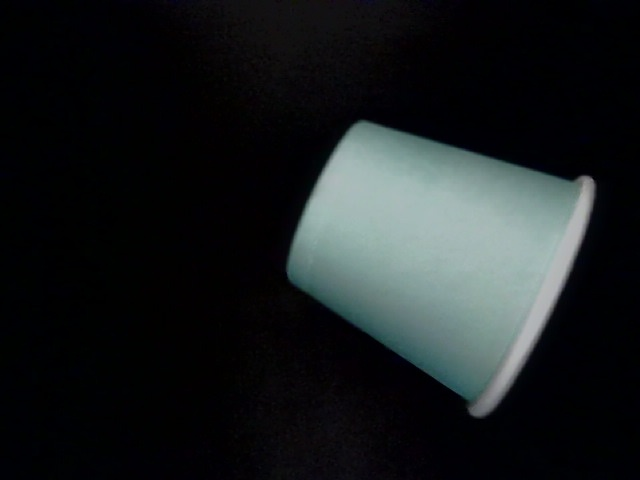KHSLJ: (134, 5, 640, 312)
